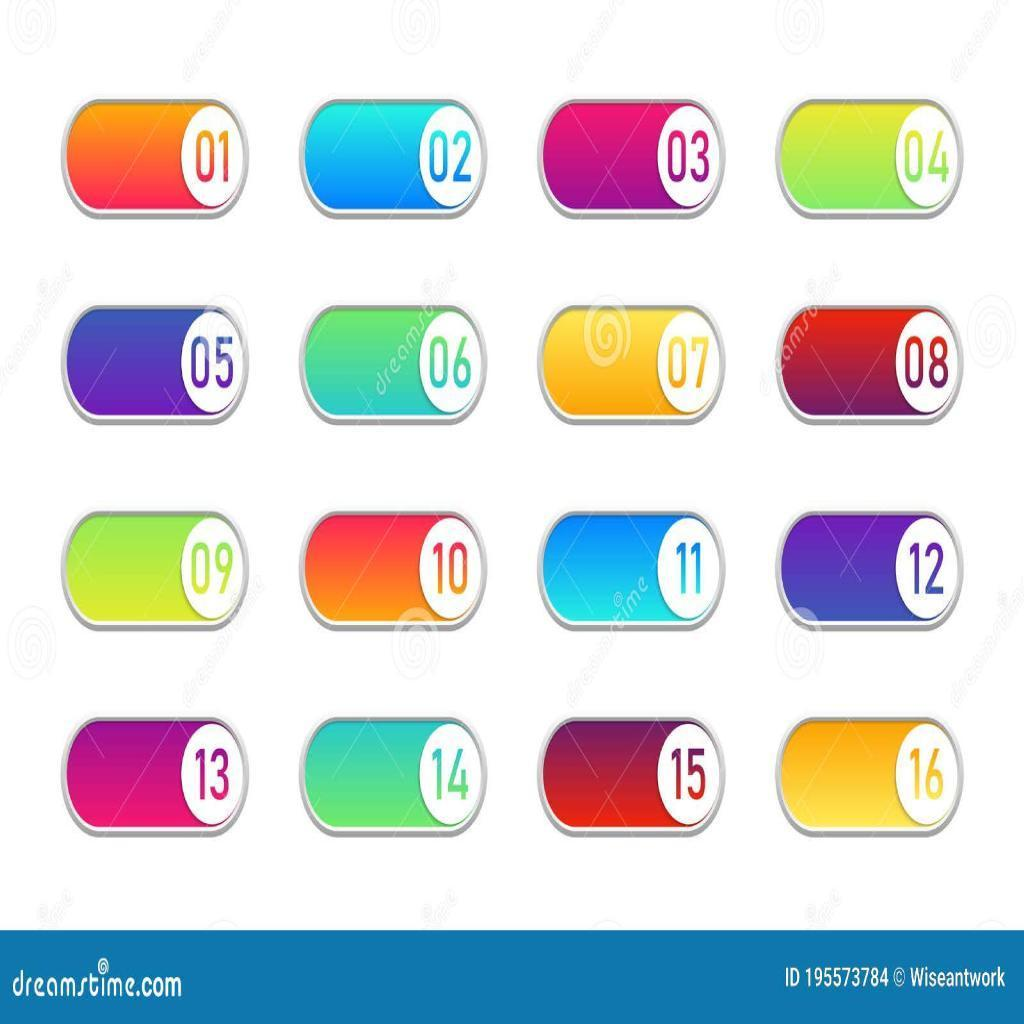switch: (65, 306, 250, 432), (298, 511, 484, 636), (537, 513, 729, 634), (780, 305, 967, 428), (541, 94, 727, 217), (302, 305, 487, 427), (779, 721, 965, 842), (537, 307, 731, 423), (779, 101, 966, 220), (301, 101, 493, 216), (307, 718, 491, 838), (63, 514, 248, 632), (63, 719, 250, 835), (781, 516, 962, 630), (68, 105, 248, 219), (546, 724, 727, 832)
